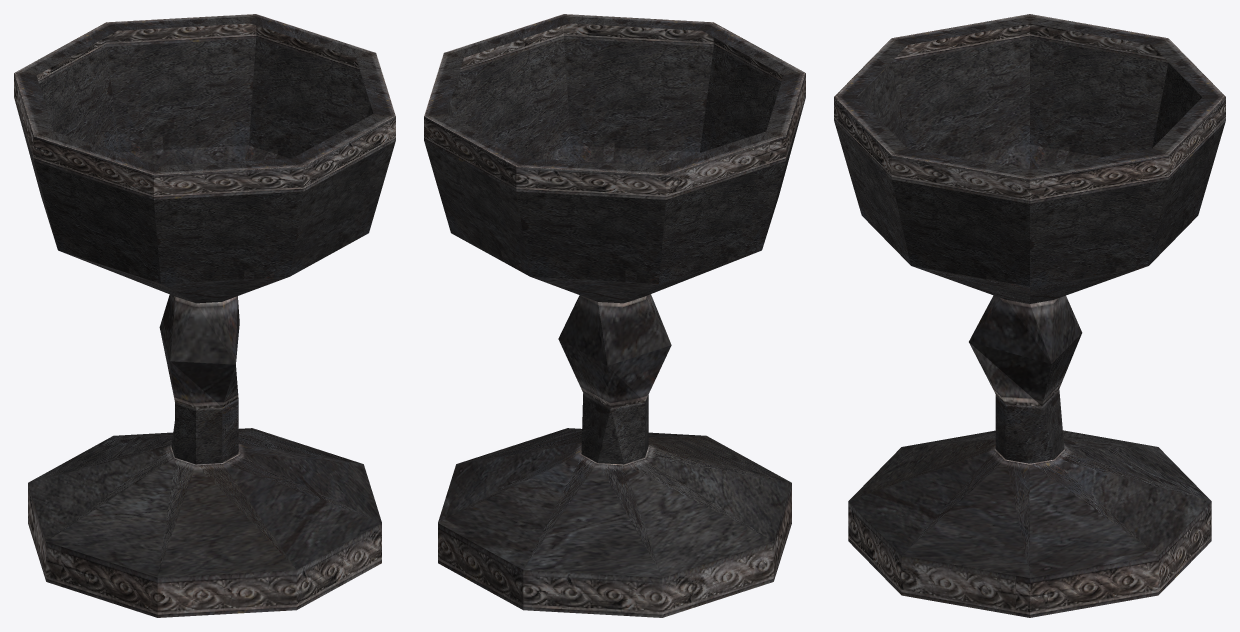
Rendered from tavern_cup2_LOD.dae.
3 renders of one model, left to right at view 1: azimuth 30°, elevation 25°; view 2: azimuth 150°, elevation 25°; view 3: azimuth 270°, elevation 25°, orthographic.
Parts seen in each view (by area): view 1: Default_Layer; view 2: Default_Layer; view 3: Default_Layer.
Boxes of the visible parts, left/top/right/bottom form: Default_Layer: left=14, top=14, right=395, bottom=617; Default_Layer: left=424, top=14, right=805, bottom=617; Default_Layer: left=834, top=14, right=1225, bottom=617.
Size of the model in its own units: 1.52 by 1.9 by 1.52.
